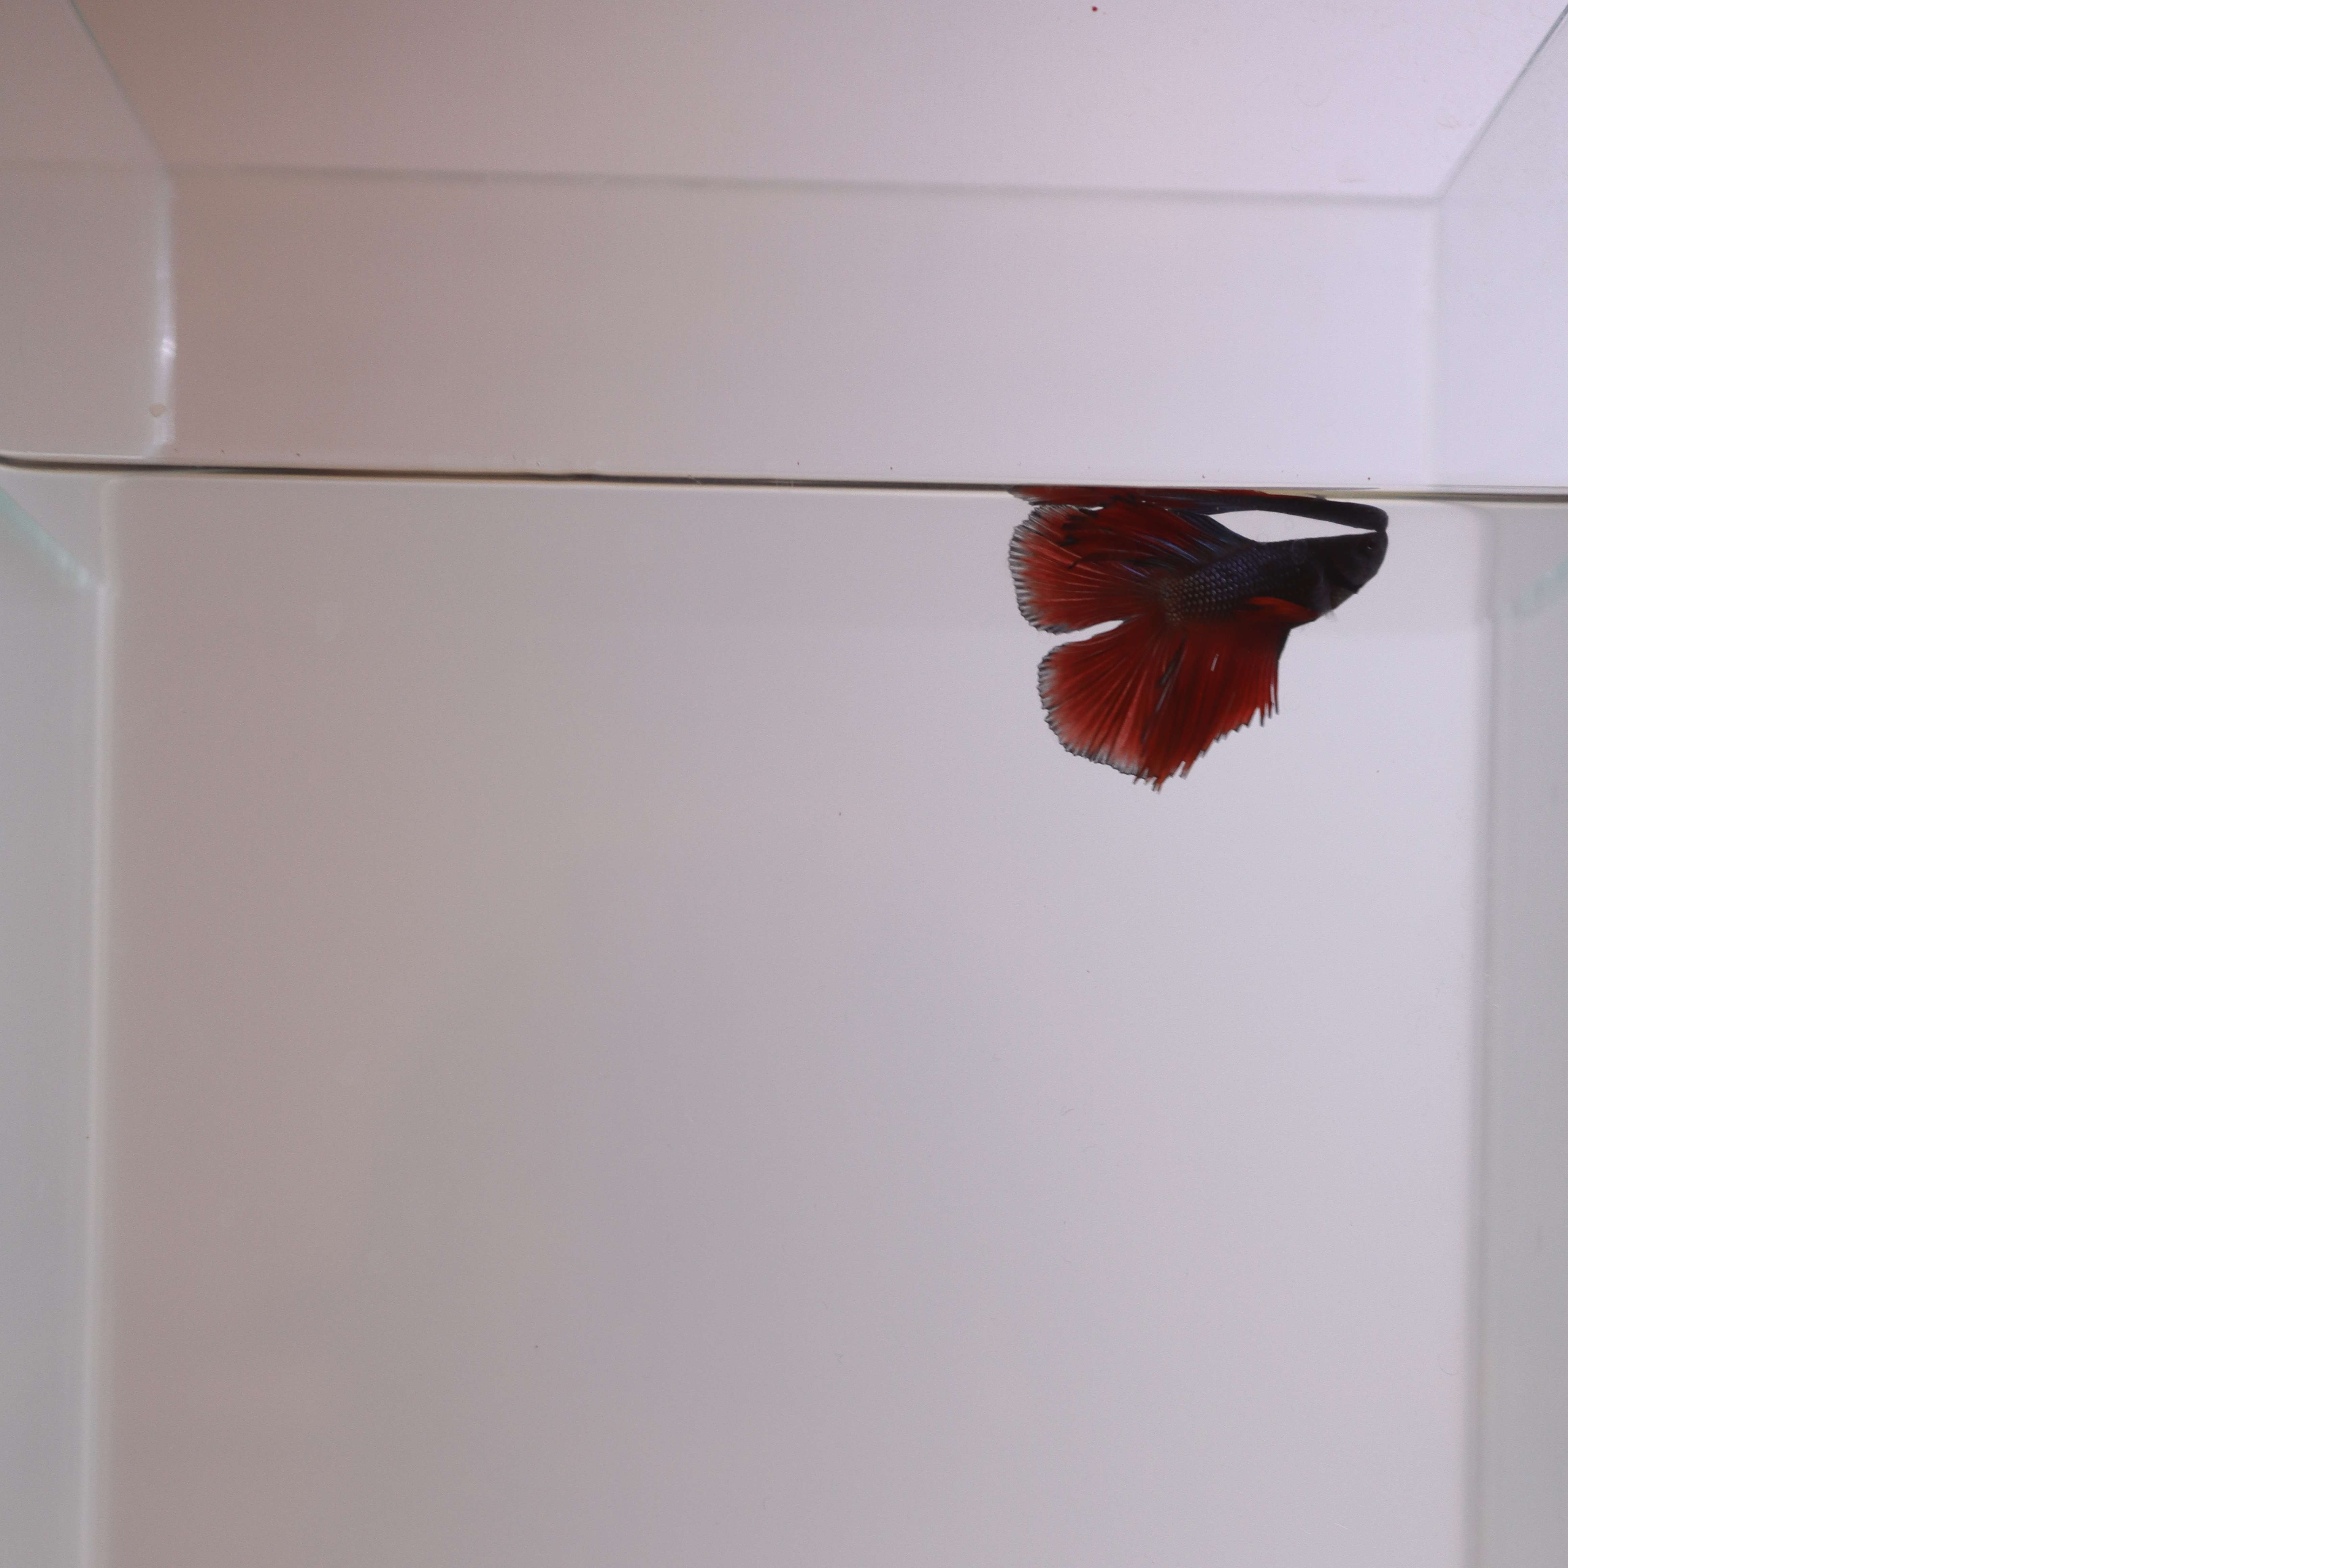fish: (971, 495, 1410, 795)
